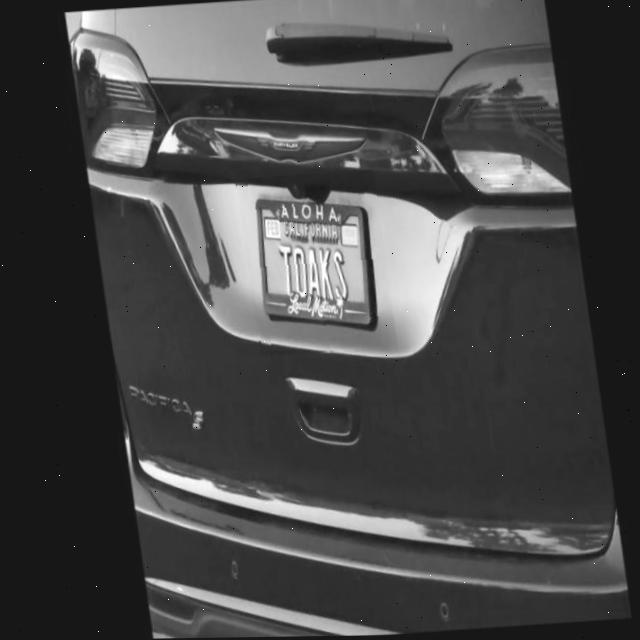LicensePlate: (232, 171, 392, 358)
